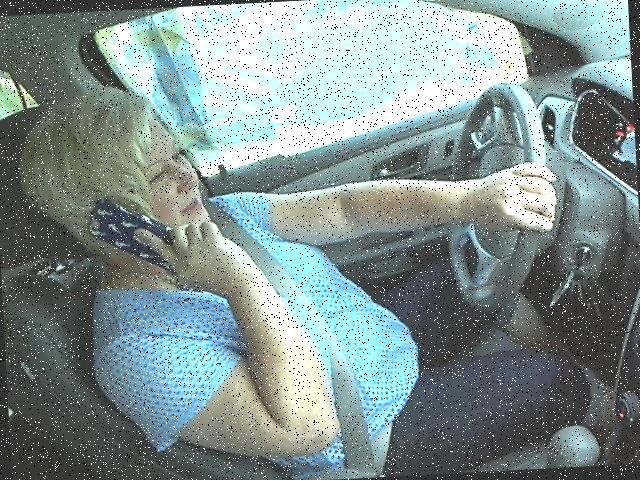c2 - Talking on the phone: (10, 50, 574, 418)
